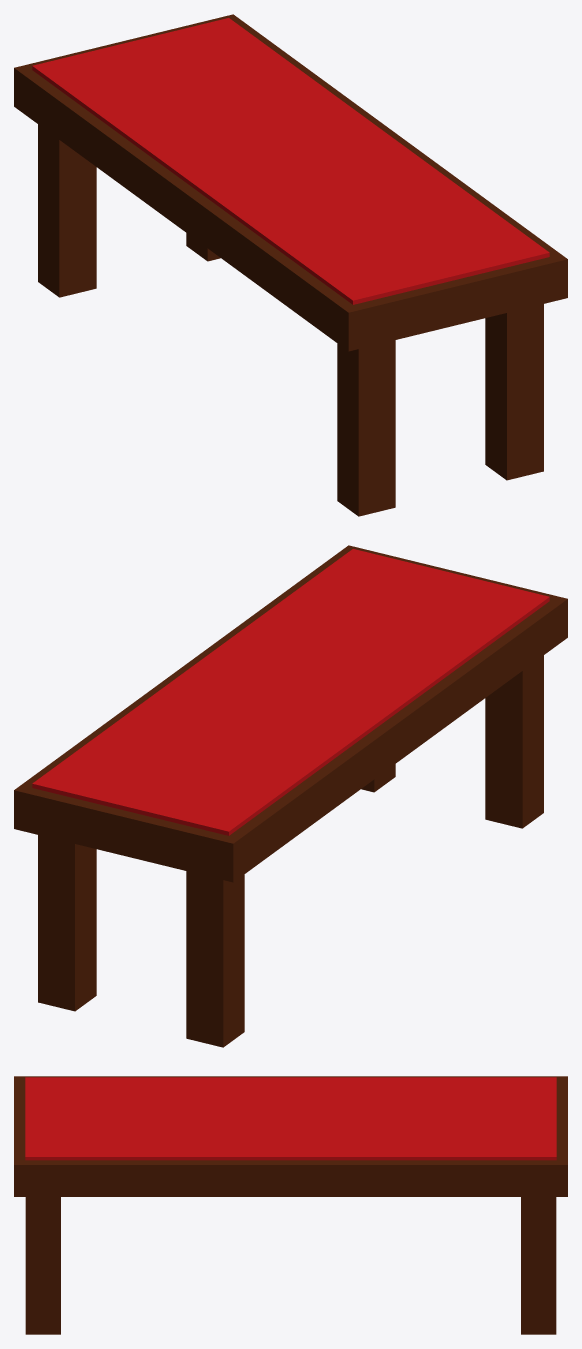
The model's file is Desk.obj.
3 views of the same model, one above another, from view 1: azimuth 30°, elevation 25°; view 2: azimuth 150°, elevation 25°; view 3: azimuth 270°, elevation 25° (orthographic). The views are drawn at different scales.
Visible parts, largest first — view 1: 机面, 机足; view 2: 机面, 机足; view 3: 机面, 机足.
Boxes of the visible parts, x1=… form: 机面: x1=14, y1=14, x2=567, y2=351; 机足: x1=38, y1=124, x2=543, y2=516; 机面: x1=14, y1=545, x2=567, y2=882; 机足: x1=38, y1=655, x2=543, y2=1047; 机面: x1=14, y1=1076, x2=567, y2=1196; 机足: x1=25, y1=1197, x2=556, y2=1334.
Bounding box in the file's own units: 11.84 × 11.22 × 31.29.
